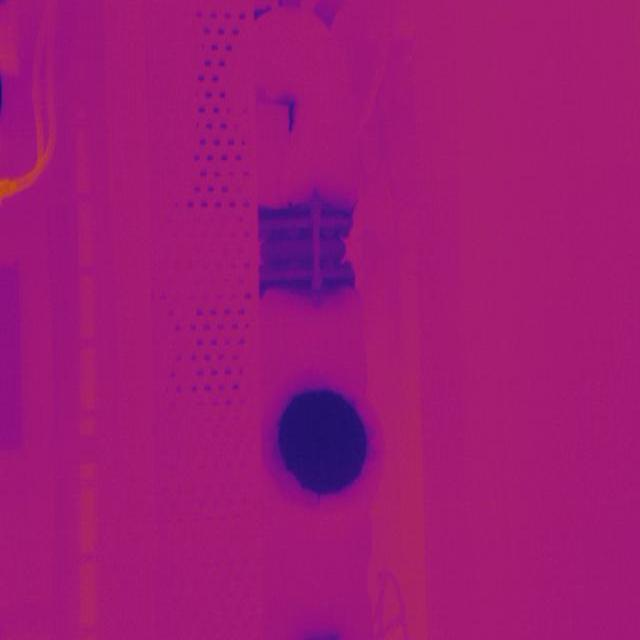leakage: (268, 92, 301, 134)
